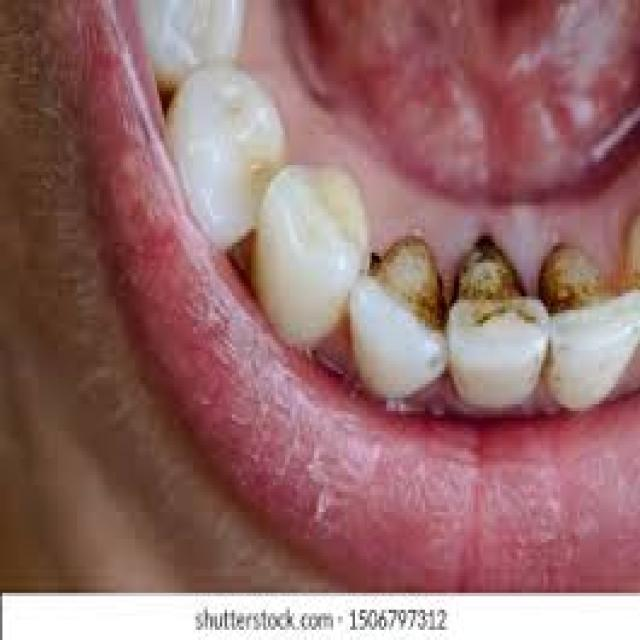calculus: (450, 232, 547, 354), (359, 240, 445, 335), (533, 248, 640, 314), (227, 229, 281, 298), (154, 64, 198, 140)
